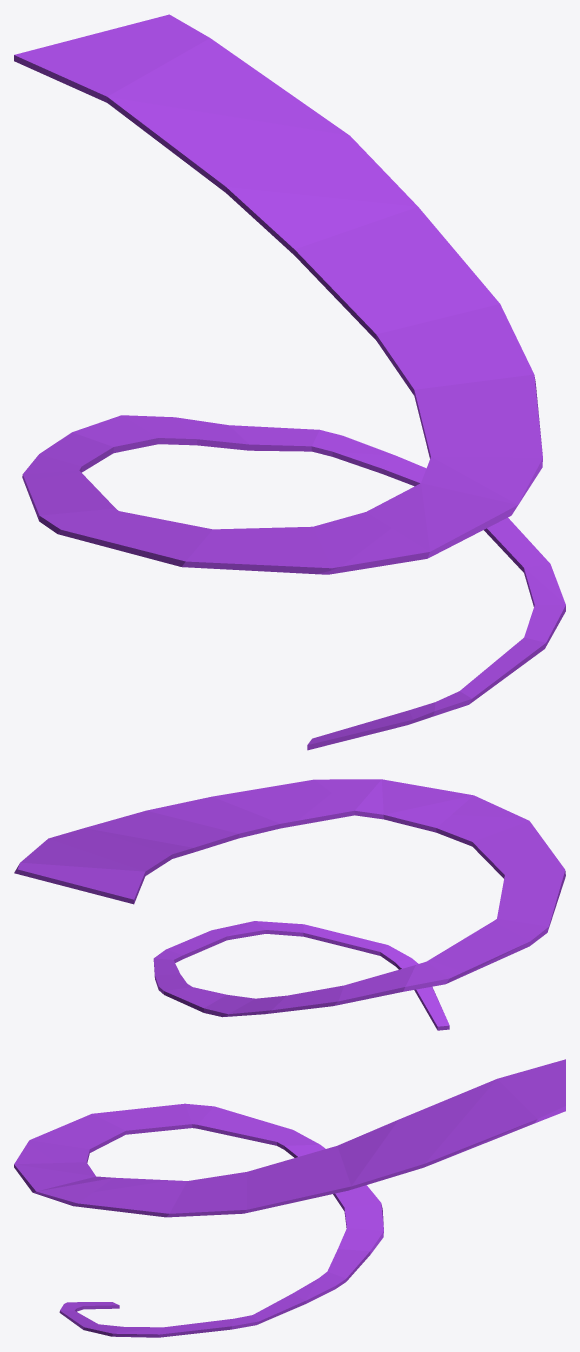
The model's file is Glass_100_chunks.fbx.
3 views of the same model, one above another, from view 1: azimuth 30°, elevation 25°; view 2: azimuth 150°, elevation 25°; view 3: azimuth 270°, elevation 25° (orthographic). The views are drawn at different scales.
Visible parts, largest first — view 1: Glass_100_3, Glass_100_0, Glass_100_2, Glass_100_1; view 2: Glass_100_2, Glass_100_3, Glass_100_0, Glass_100_1; view 3: Glass_100_3, Glass_100_0, Glass_100_2, Glass_100_1.
Part boxes in pixels (bbox=[...]): Glass_100_3: bbox=[272, 82, 560, 590]; Glass_100_0: bbox=[14, 14, 350, 487]; Glass_100_2: bbox=[25, 405, 502, 574]; Glass_100_1: bbox=[307, 462, 565, 750]; Glass_100_2: bbox=[297, 790, 565, 974]; Glass_100_3: bbox=[33, 779, 335, 987]; Glass_100_0: bbox=[14, 848, 466, 1017]; Glass_100_1: bbox=[239, 779, 523, 1030]; Glass_100_3: bbox=[66, 1135, 487, 1337]; Glass_100_0: bbox=[270, 1059, 565, 1291]; Glass_100_2: bbox=[28, 1103, 279, 1193]; Glass_100_1: bbox=[14, 1143, 147, 1337].
Bounding box in the file's own units: 3409 × 2803 × 5241.
